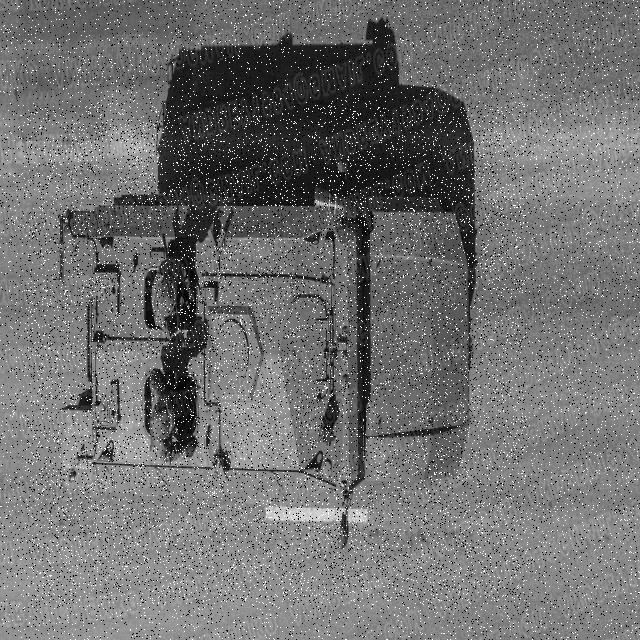MIL_MBT: (27, 106, 524, 601)
